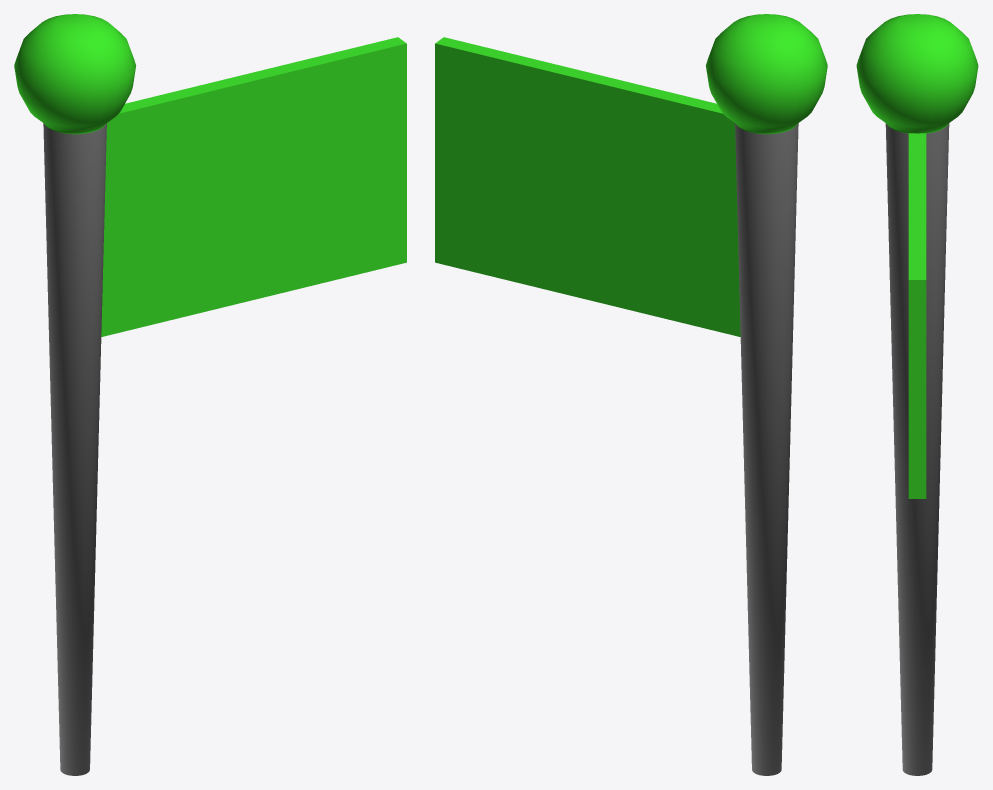
File: Flag.fbx
3 renders of one model, left to right at view 1: azimuth 30°, elevation 25°; view 2: azimuth 150°, elevation 25°; view 3: azimuth 270°, elevation 25°, orthographic.
Visible parts, largest first — view 1: Pin Flag; view 2: Pin Flag; view 3: Pin Flag.
Boxes of the visible parts, bbox=[...] form: Pin Flag: bbox=[14, 14, 406, 775]; Pin Flag: bbox=[435, 14, 827, 775]; Pin Flag: bbox=[856, 14, 978, 775].
Bounding box in the file's own units: 104 × 29.05 × 196.
